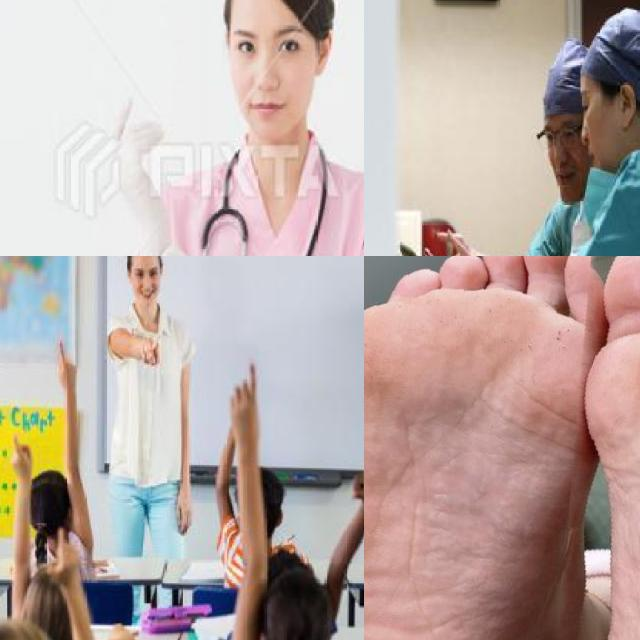Barefoots: (364, 256, 610, 640)
No_Ear-Protection: (614, 82, 638, 130)
face_nomask: (218, 8, 318, 139), (571, 78, 627, 170), (539, 119, 584, 204), (130, 256, 163, 303)
glasses: (533, 124, 580, 150)
hand_glove: (110, 96, 170, 230)
hand_noglove: (226, 361, 258, 444), (44, 526, 78, 580), (434, 228, 498, 256), (57, 336, 77, 388), (9, 429, 32, 469), (350, 455, 364, 508), (175, 492, 192, 534), (140, 336, 158, 366), (107, 623, 136, 640)
head_nohelmet: (244, 557, 342, 640), (576, 8, 640, 102), (540, 46, 598, 127), (229, 471, 294, 536), (32, 462, 82, 542)
person: (61, 0, 364, 256), (107, 256, 201, 556), (563, 28, 640, 256)
